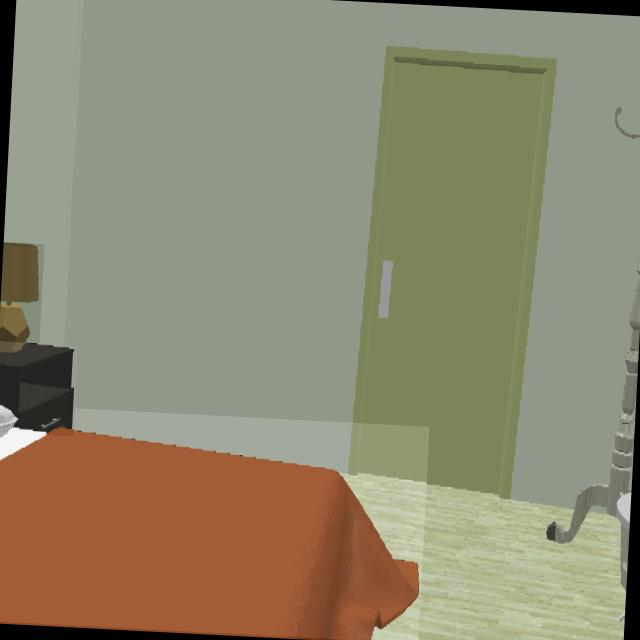bed: (0, 407, 421, 640)
lamp: (0, 243, 42, 357)
nighttable: (0, 345, 75, 435)
